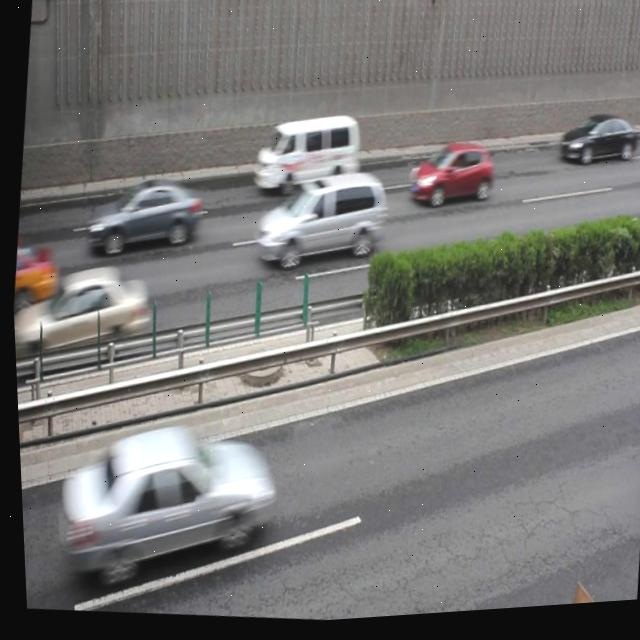car: (52, 415, 267, 604), (248, 164, 387, 285), (17, 257, 151, 371), (83, 172, 202, 266), (403, 141, 495, 220), (554, 114, 636, 179), (8, 238, 55, 321)
truck: (248, 111, 363, 206)
